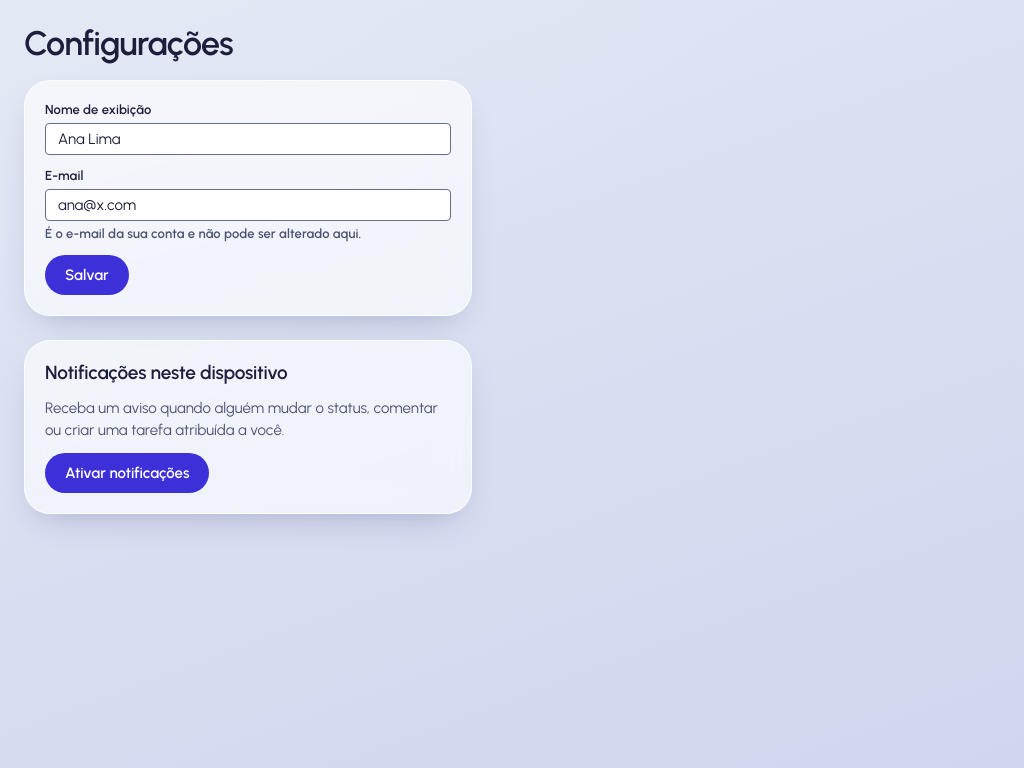
Test: ConfiguracoesPage › mostra o erro do servidor
Expected: the field labelled "Nome de exibição" is shown, x1=45 y1=123 x2=451 y2=155
Click the button "Salvar" at coordinates (87, 275), box x1=45 y1=255 x2=129 y2=295
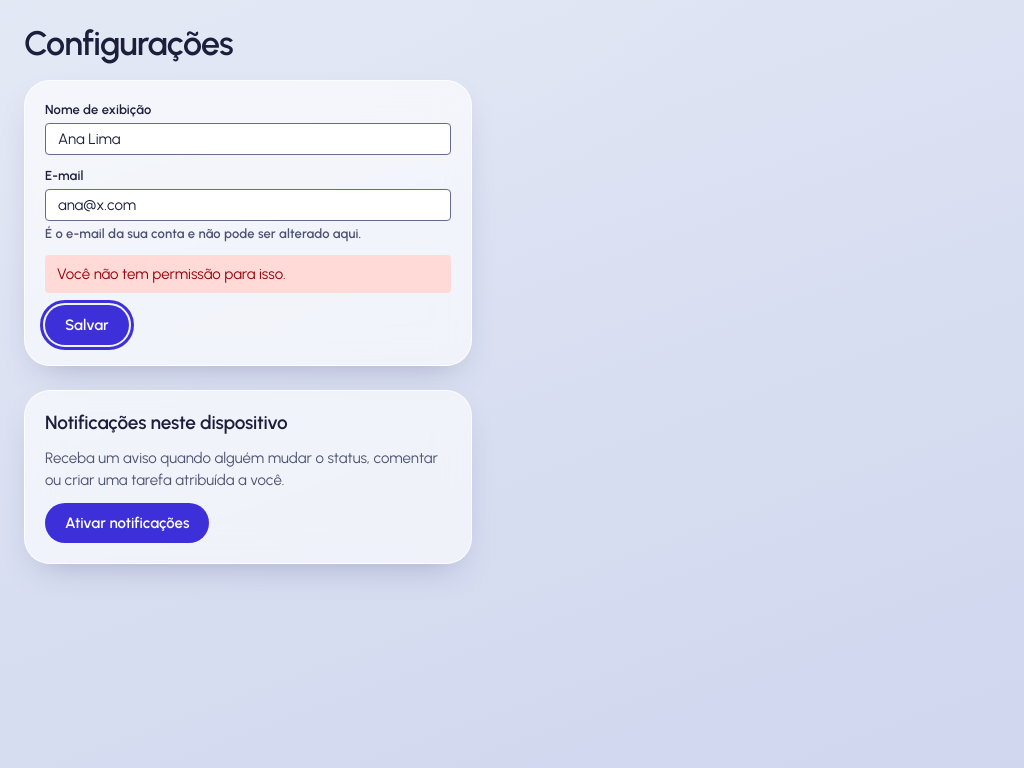
Expected: the message reads "Você não tem permissão para isso.", x1=57 y1=265 x2=286 y2=283
